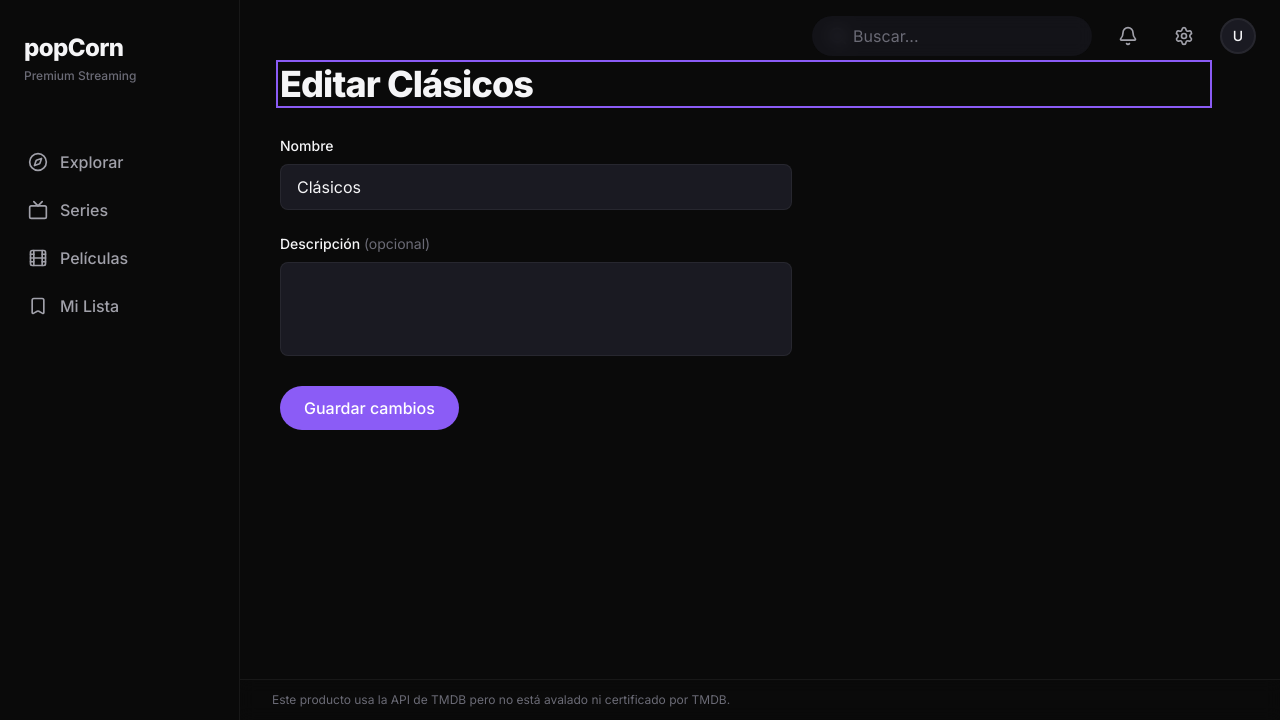
EditListPage › cambiar el nombre al de otra lista existente muestra el error de duplicado
The width and height of the screenshot is (1280, 720).
Replace the text in the field labelled "Nombre" with "Terror" at [536, 187], box [280, 164, 792, 210]
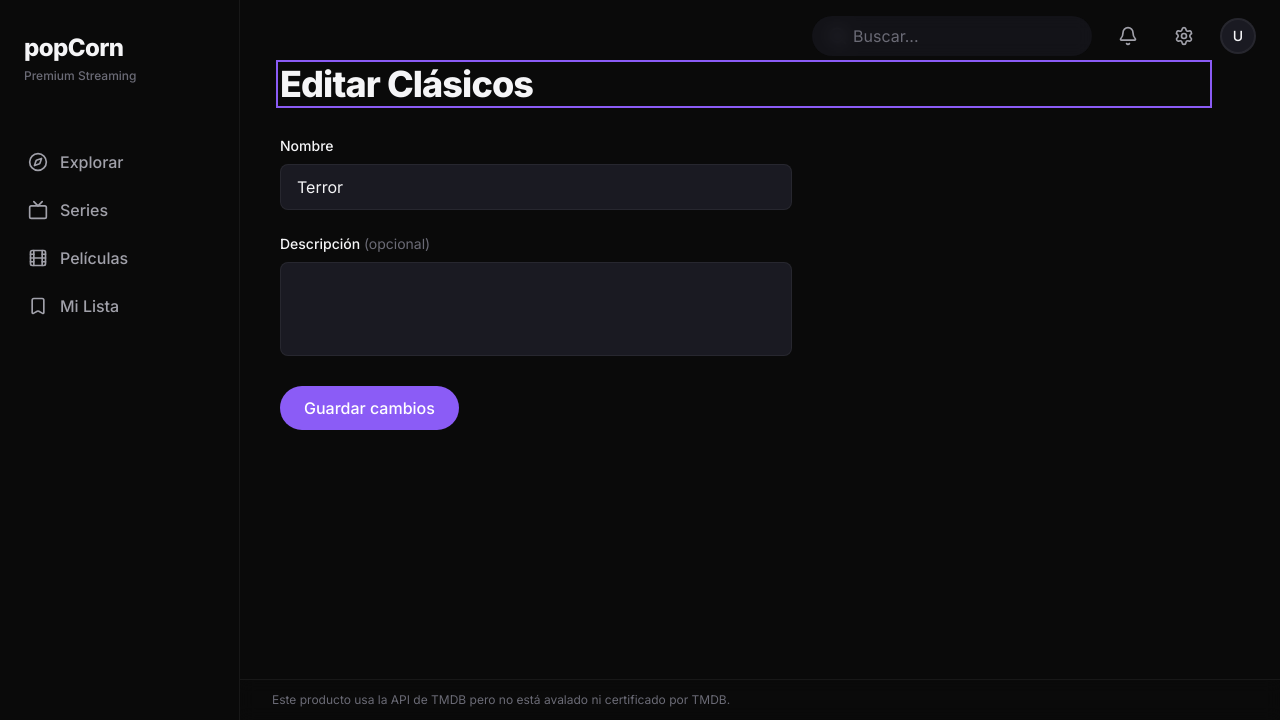
Click the button "Guardar cambios" at [369, 408], box [280, 386, 459, 430]
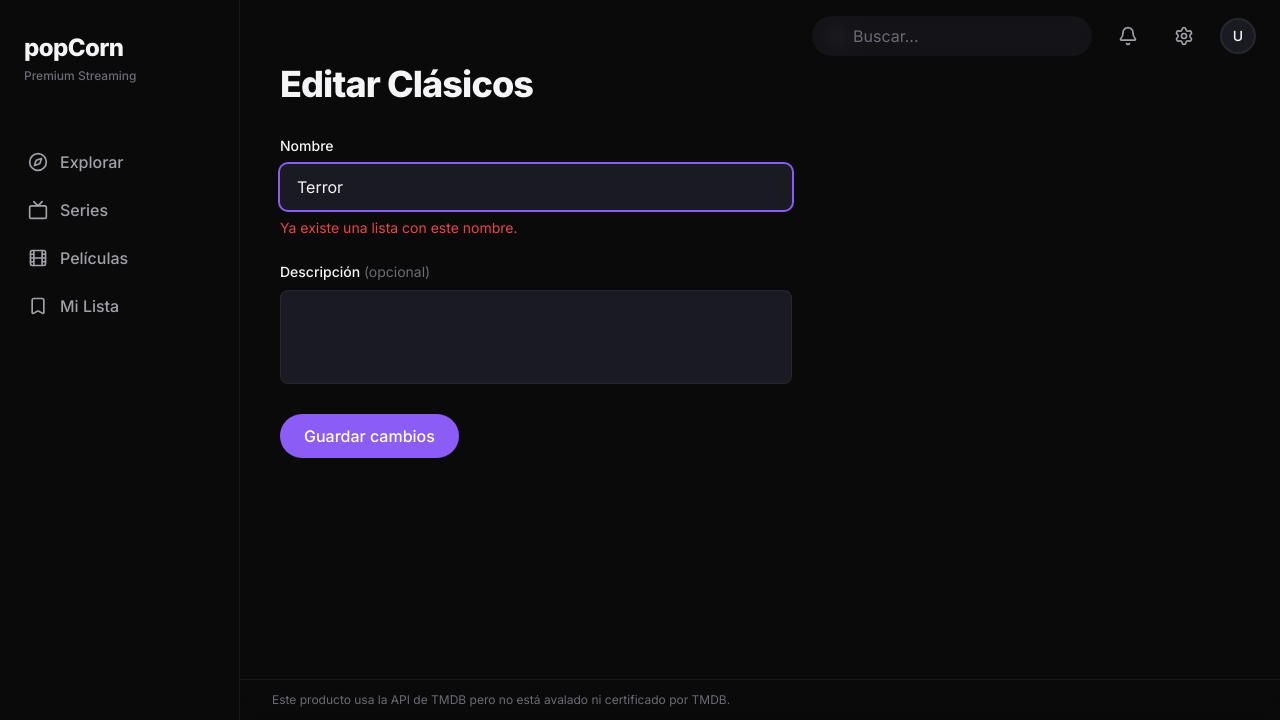
Check: the message reads "Ya existe una lista con este nombre.", box [280, 219, 518, 236]
